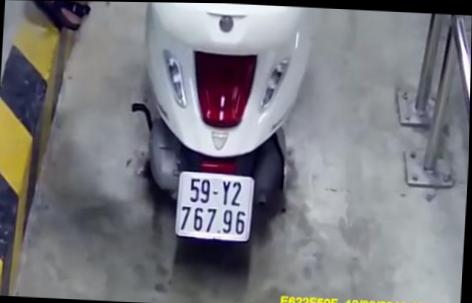LP: (175, 169, 256, 240)
